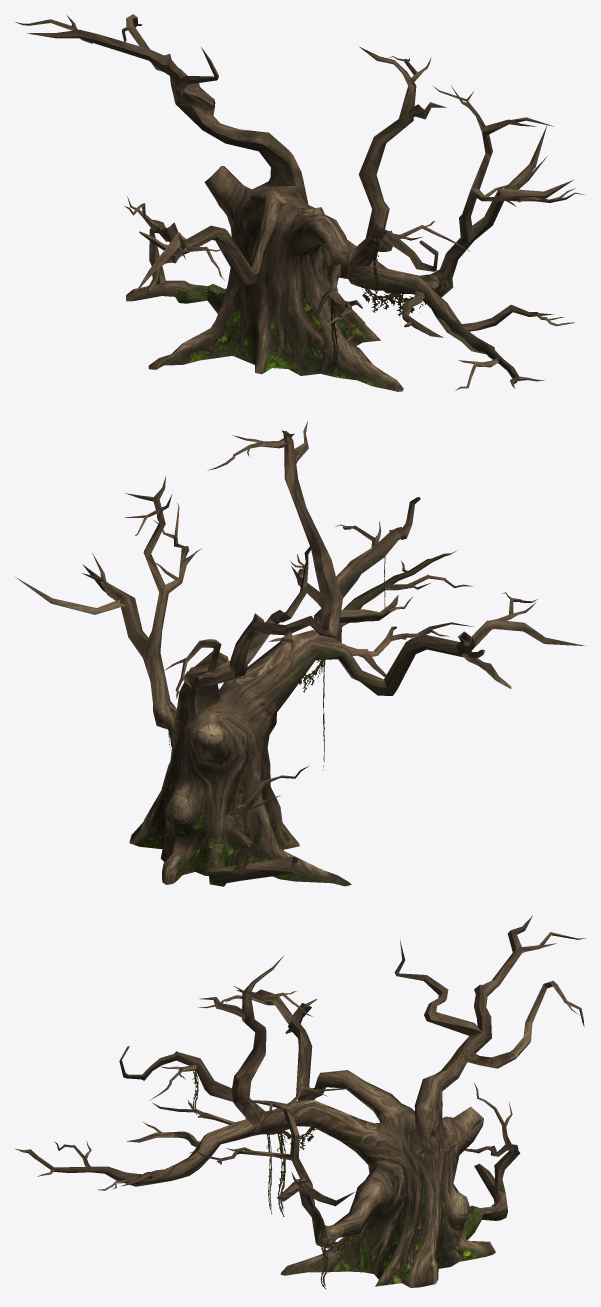
The model's file is yj_shu_2.FBX.
3 views of the same model, one above another, from view 1: azimuth 30°, elevation 25°; view 2: azimuth 150°, elevation 25°; view 3: azimuth 270°, elevation 25° (orthographic). The views are drawn at different scales.
Visible parts, largest first — view 1: yj_shu_2; view 2: yj_shu_2; view 3: yj_shu_2.
Part boxes in pixels (x1,y1,x2,y2): yj_shu_2: [15, 14, 584, 391]; yj_shu_2: [15, 421, 586, 886]; yj_shu_2: [15, 915, 585, 1289].
Size of the model in its own units: 3281 by 2289 by 3925.
